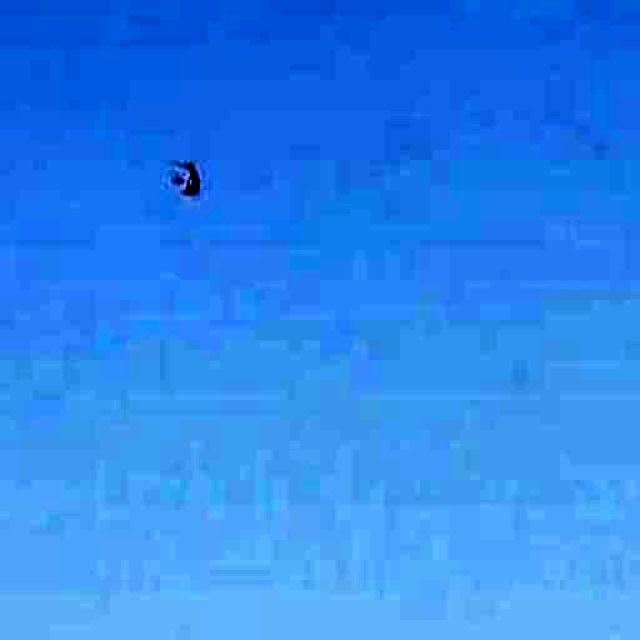drone: (141, 130, 241, 214)
